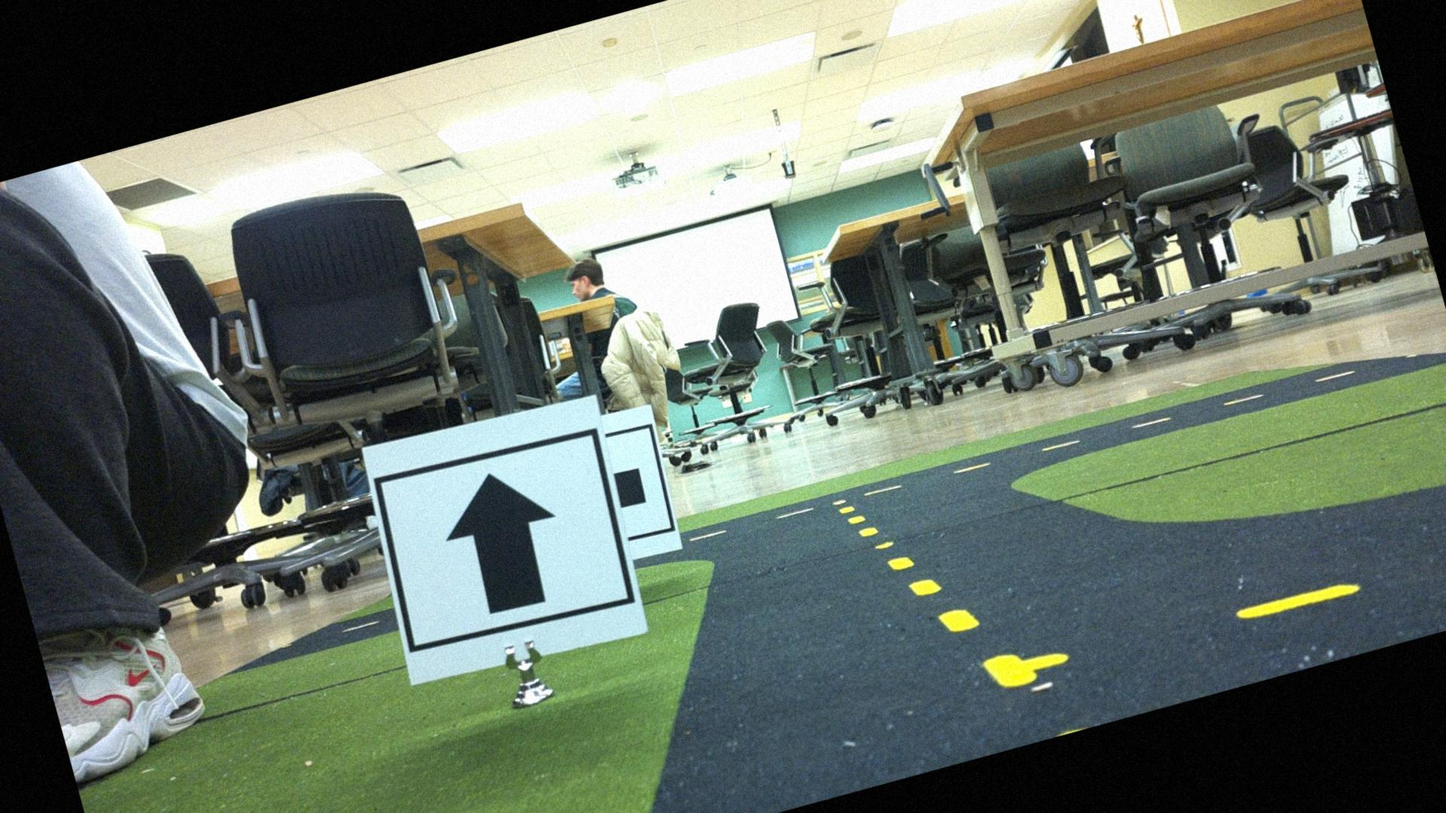gostraight: (357, 401, 642, 684)
yellowline: (833, 461, 1036, 721)
